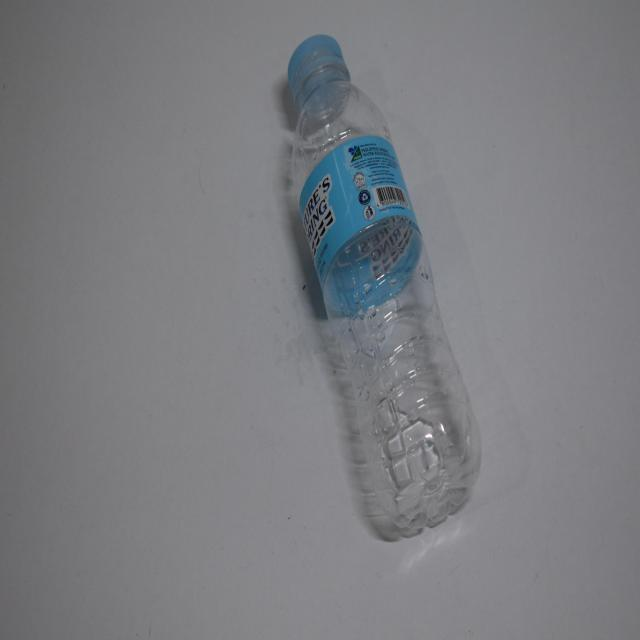empty: (288, 35, 480, 528)
